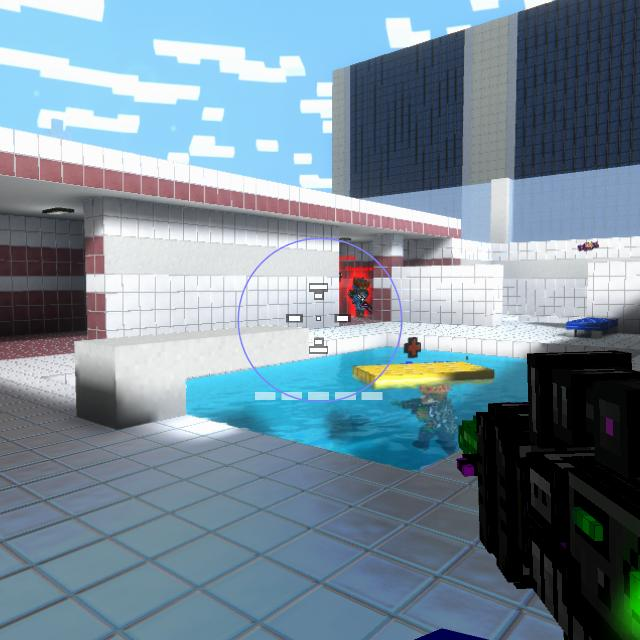Enemy: (347, 279, 371, 317)
